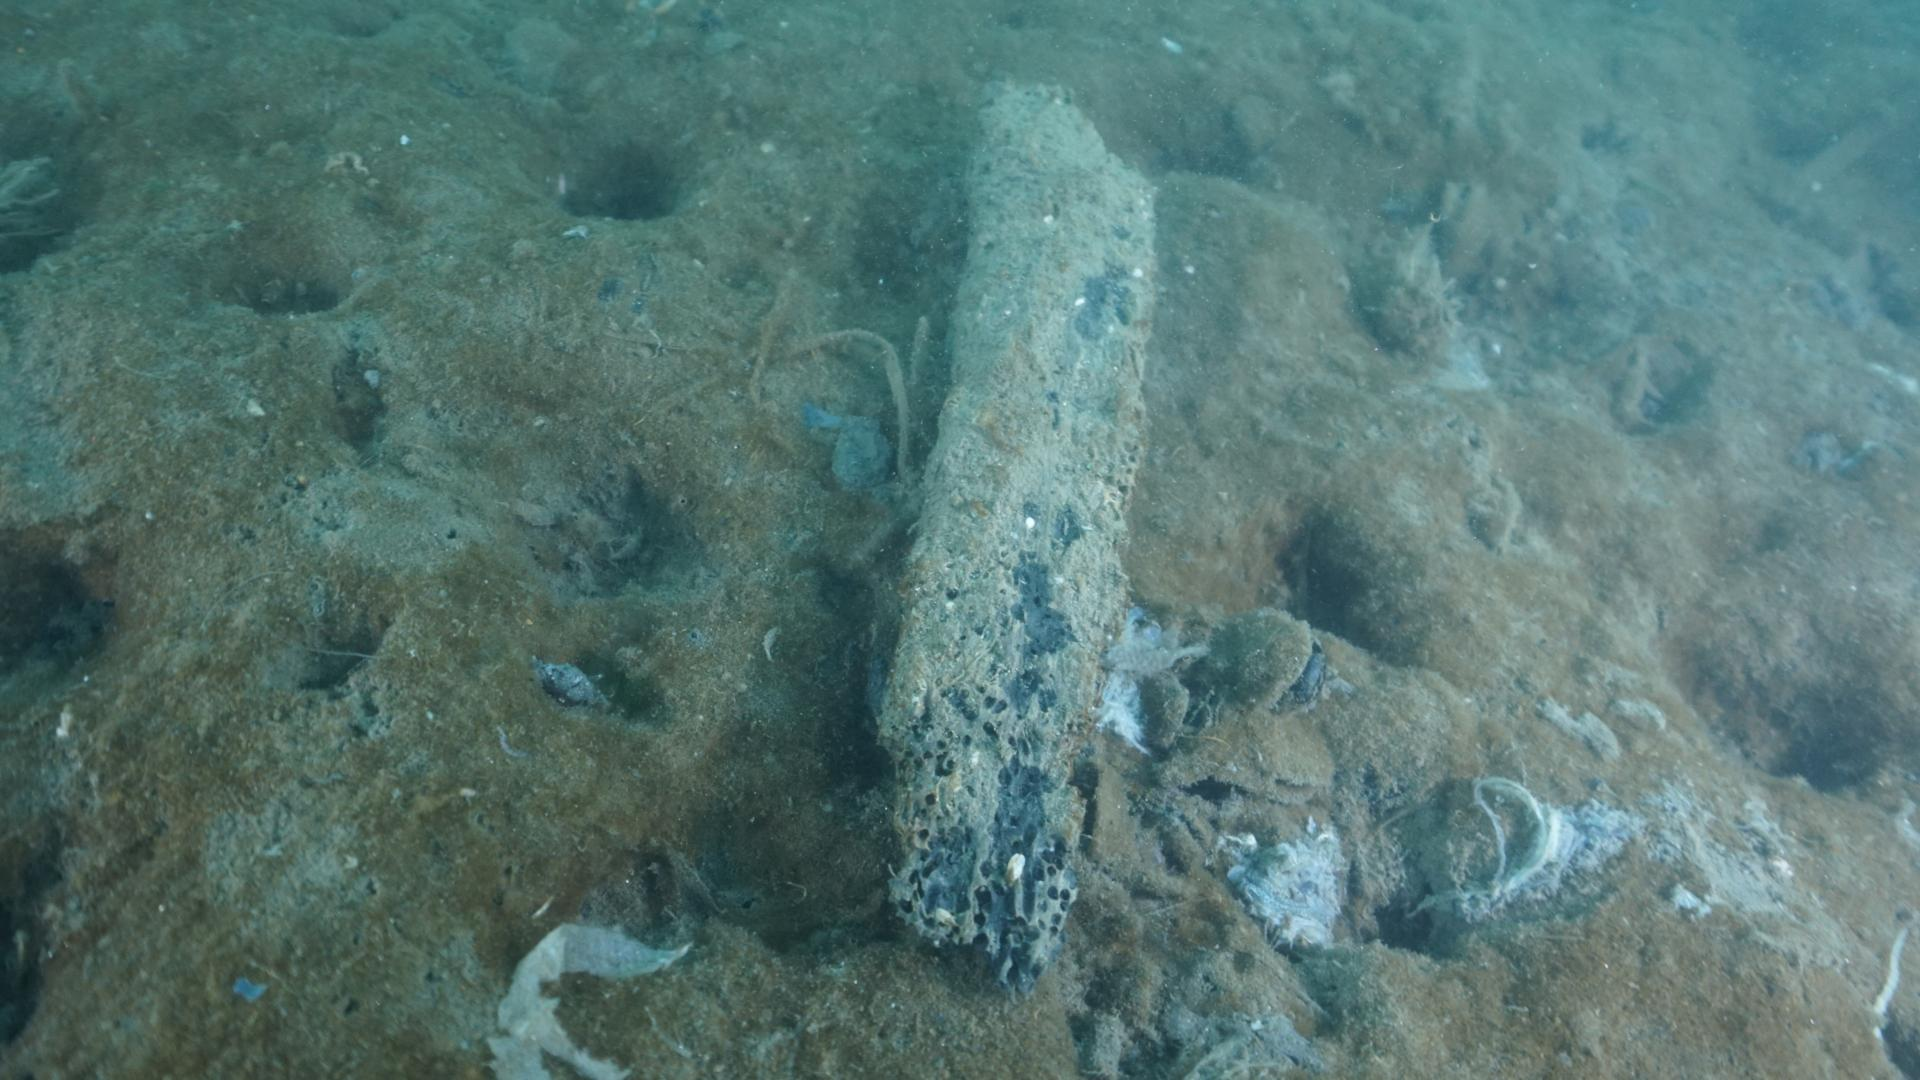wood: (873, 70, 1162, 998)
